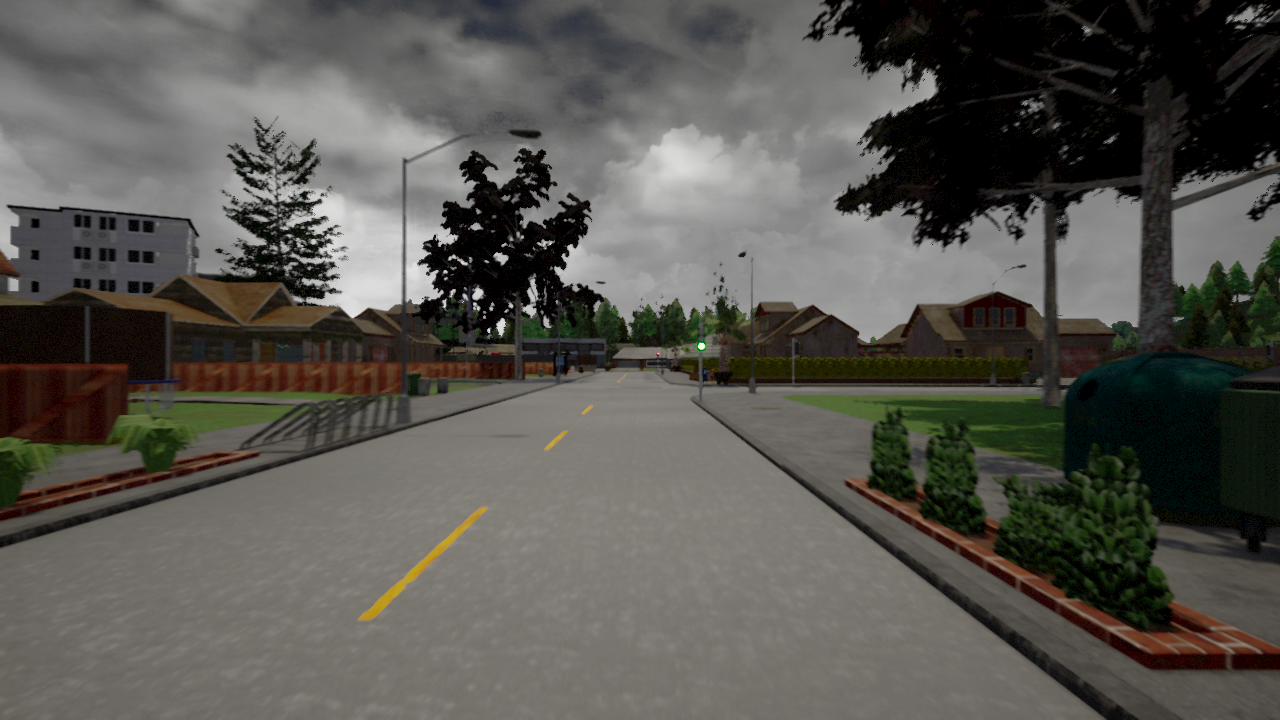green: (696, 326, 708, 352)
